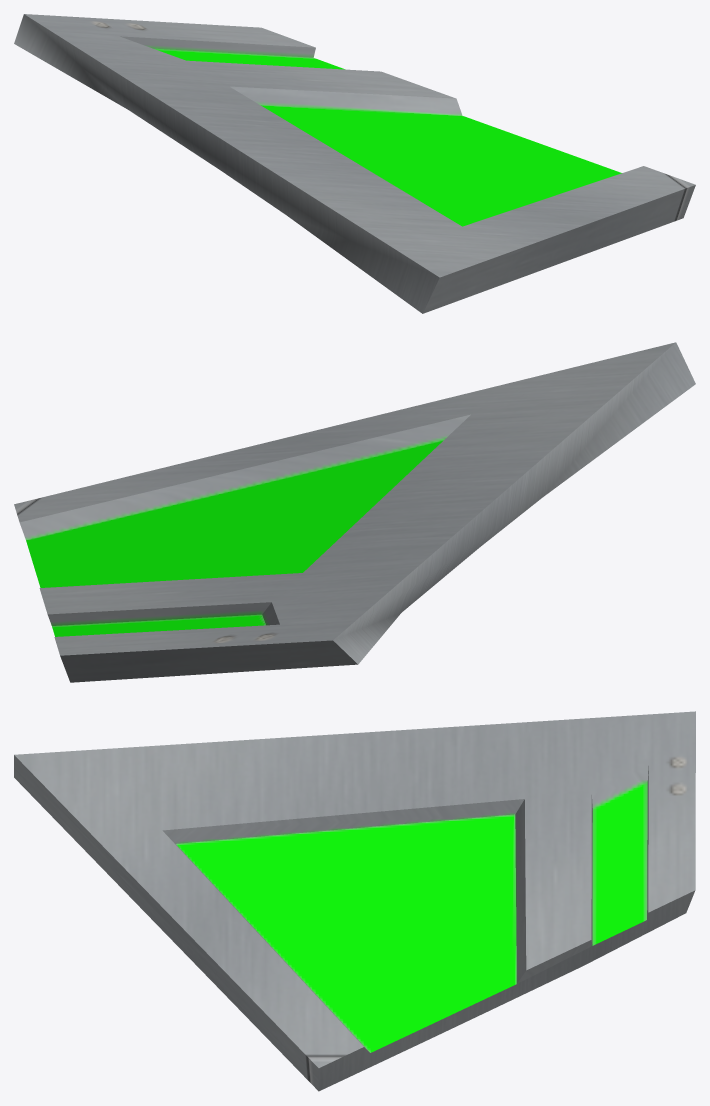
Rendered from X-Jet-2_Debris2.fbx.
The picture shows the model from 3 angles, top to bottom: view 1: azimuth 30°, elevation 25°; view 2: azimuth 150°, elevation 25°; view 3: azimuth 270°, elevation 25°; orthographic projection. The views are drawn at different scales.
Parts seen in each view (by area): view 1: X_Jet_Debris2; view 2: X_Jet_Debris2; view 3: X_Jet_Debris2.
Part boxes in pixels (bbox=[...]): X_Jet_Debris2: bbox=[14, 14, 695, 313]; X_Jet_Debris2: bbox=[14, 342, 695, 682]; X_Jet_Debris2: bbox=[14, 711, 695, 1091].
Bounding box in the file's own units: 4.2 × 1.41 × 5.3.
